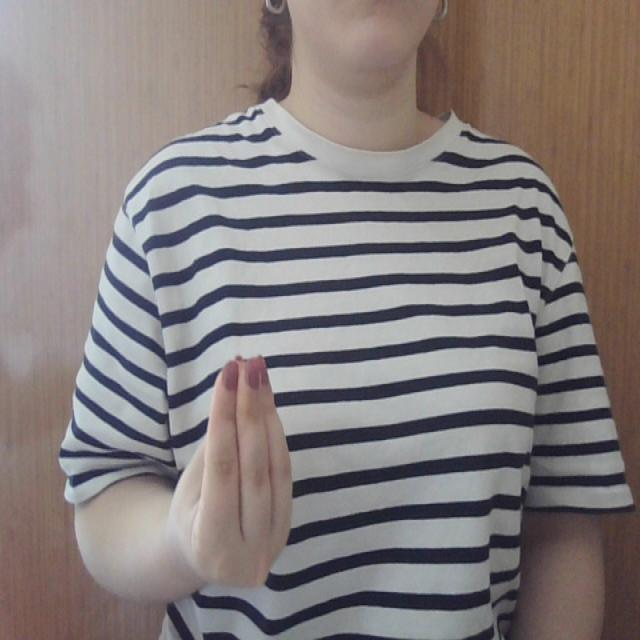iyi: (173, 347, 297, 592)
